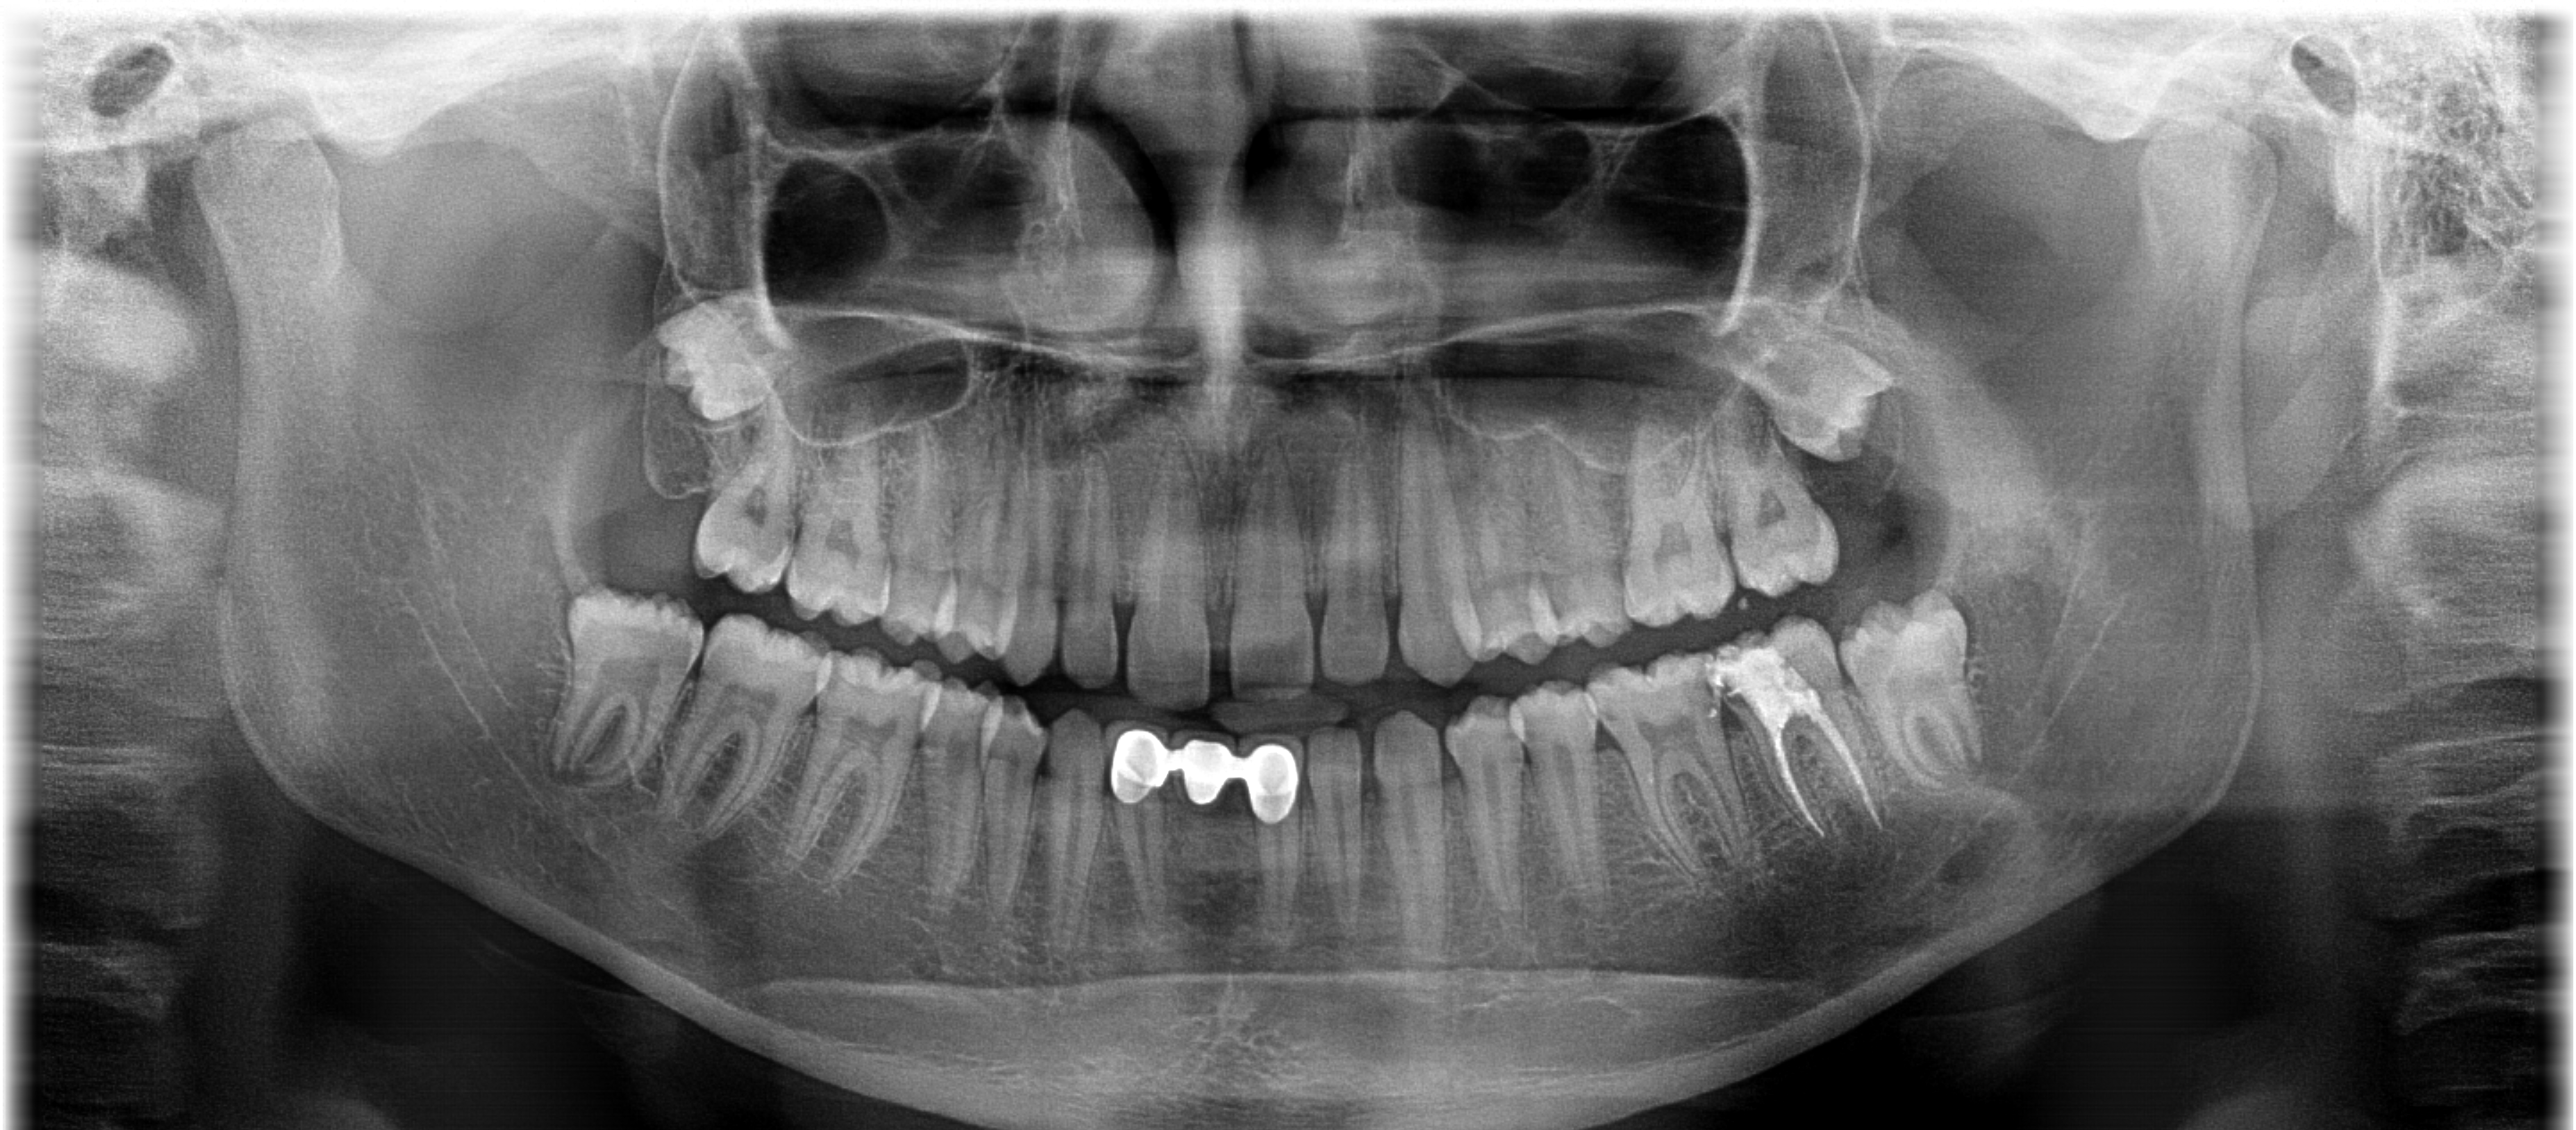apinamiento: (1700, 608, 1901, 854)
cordal: (522, 552, 711, 798), (609, 269, 828, 460), (1712, 286, 1916, 485), (1833, 581, 2004, 795)
diente_rotado: (1186, 463, 1242, 698), (1367, 468, 1421, 691), (1347, 710, 1390, 930)
